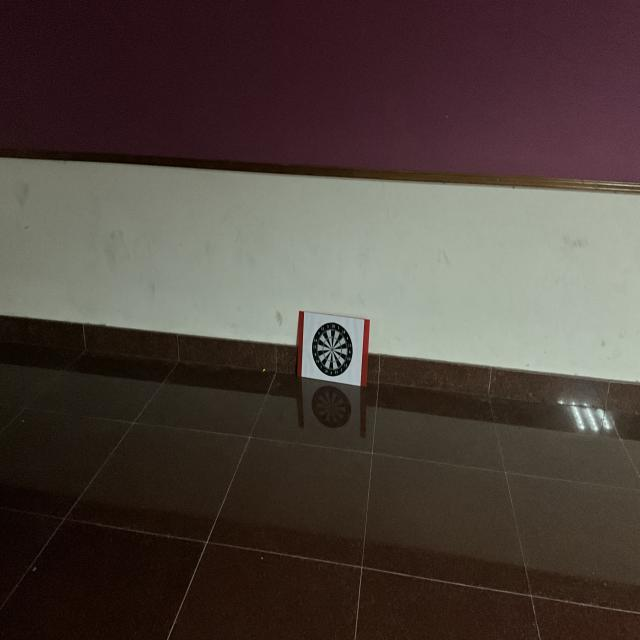archery-targets: (309, 321, 360, 382)
